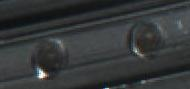joints: (28, 38, 68, 80), (127, 20, 164, 60)
